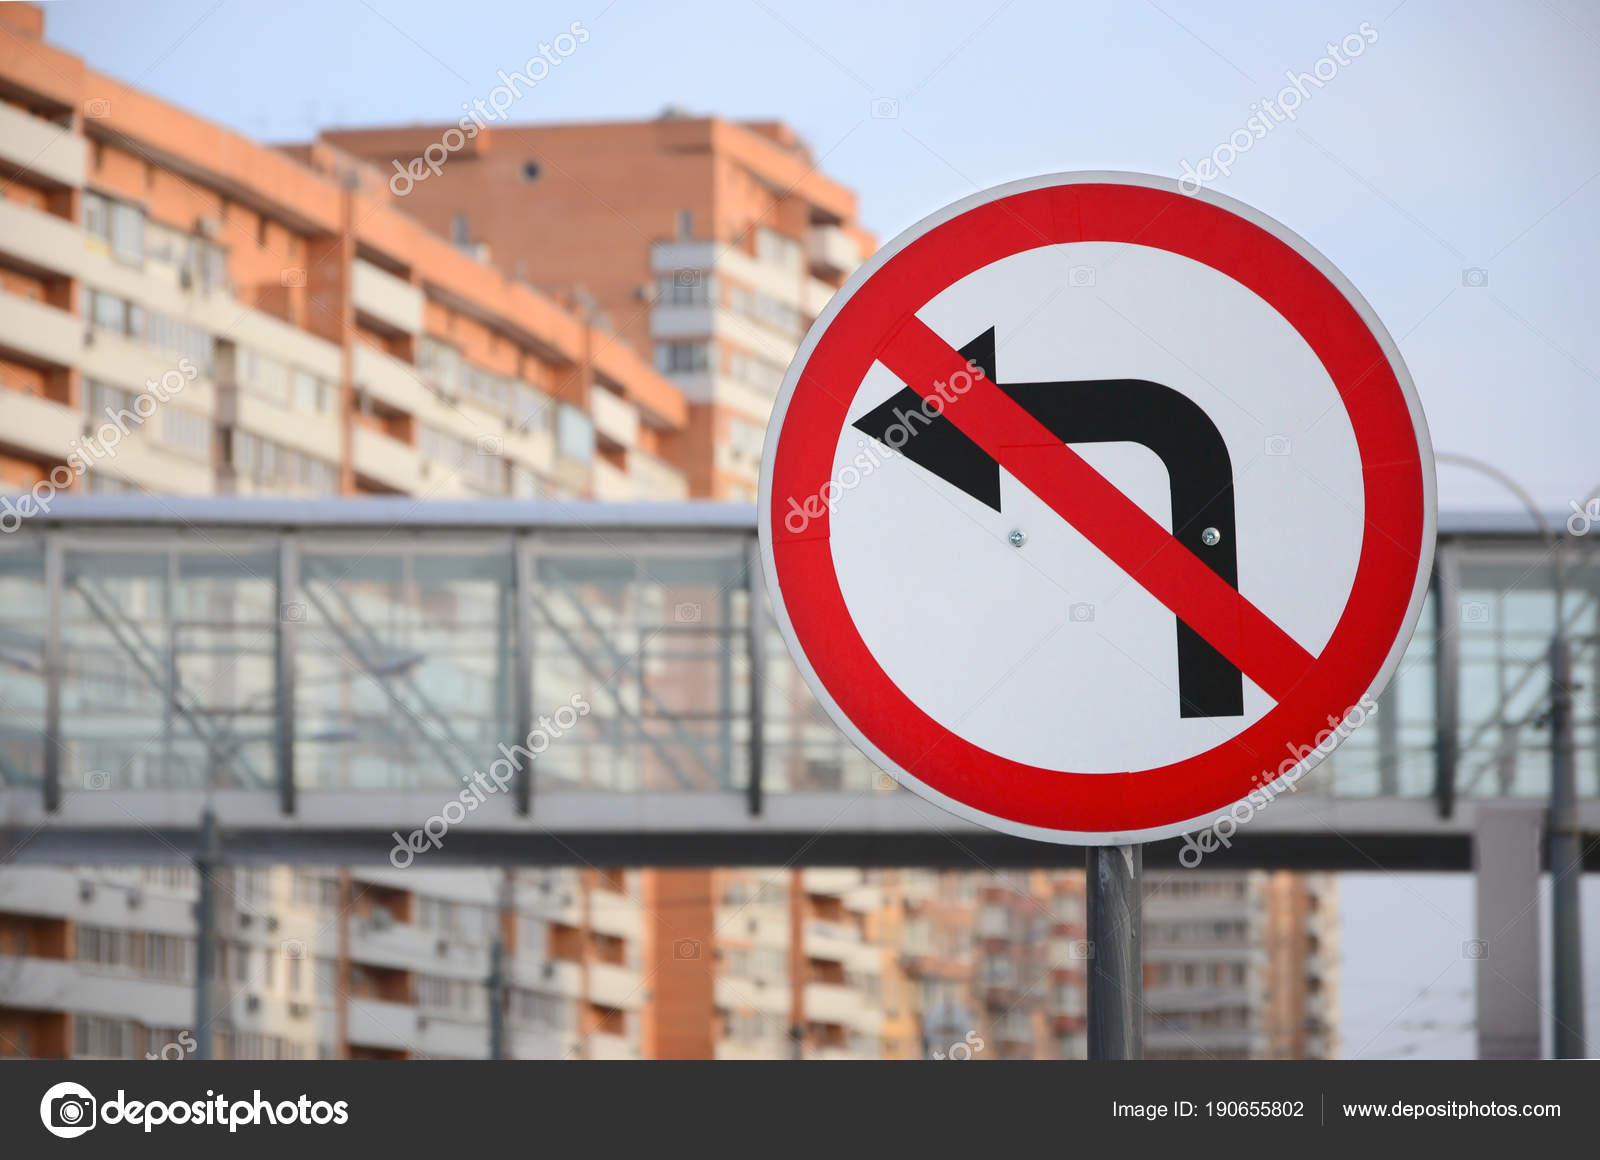sola_girilmez: (753, 163, 1439, 858)
